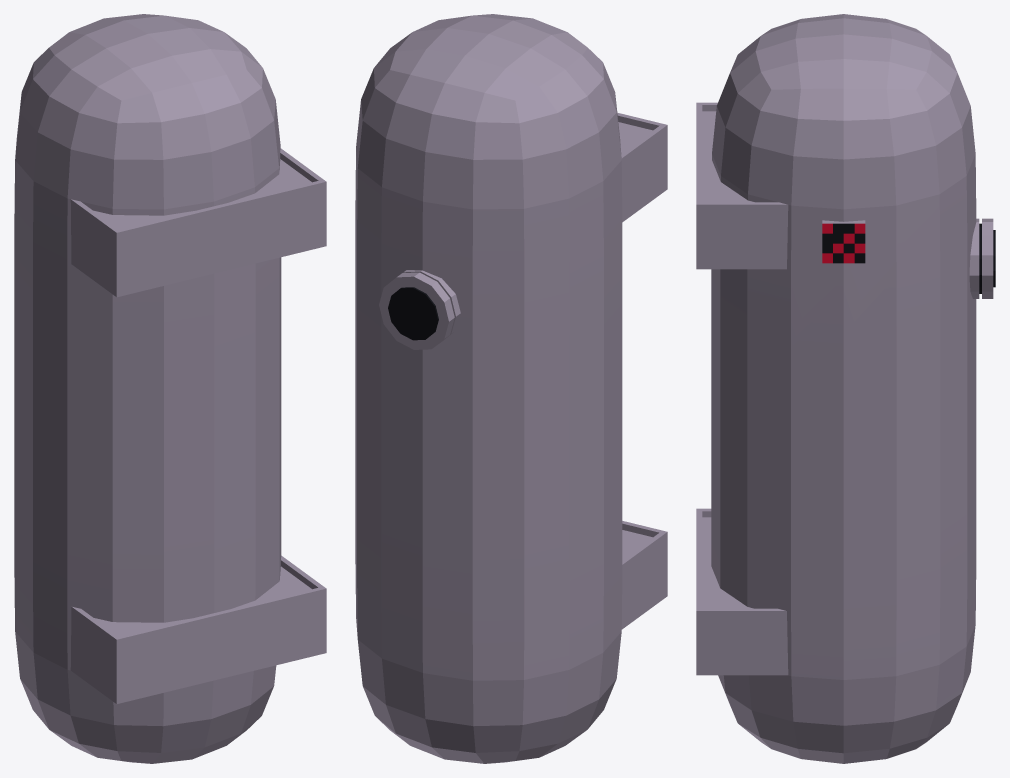
The model's file is gas-tank.fbx.
3 views of the same model, side by side, from view 1: azimuth 30°, elevation 25°; view 2: azimuth 150°, elevation 25°; view 3: azimuth 270°, elevation 25° (orthographic).
Visible parts, largest first — view 1: Cube; view 2: Cube; view 3: Cube.
Part boxes in pixels (x1,y1,x2,y2): Cube: [14, 14, 326, 763]; Cube: [355, 14, 667, 763]; Cube: [696, 14, 995, 763].
Size of the model in its own units: 610 by 1773 by 678.
Materials: 1 (1 with a texture image).
